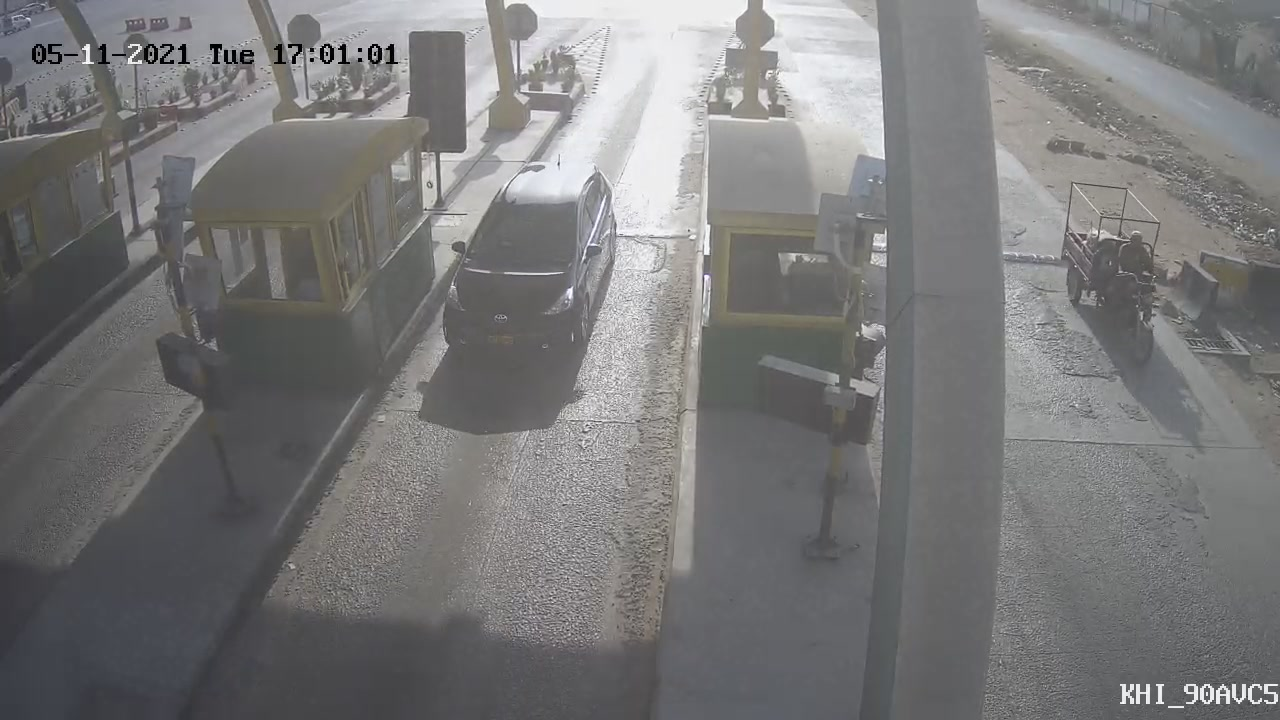F1: (414, 139, 635, 387)
